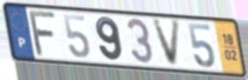3: (125, 17, 155, 67)
5: (187, 21, 217, 70), (61, 13, 92, 60)
9: (94, 15, 125, 64)
F: (28, 10, 59, 59)
V: (150, 18, 183, 68)
